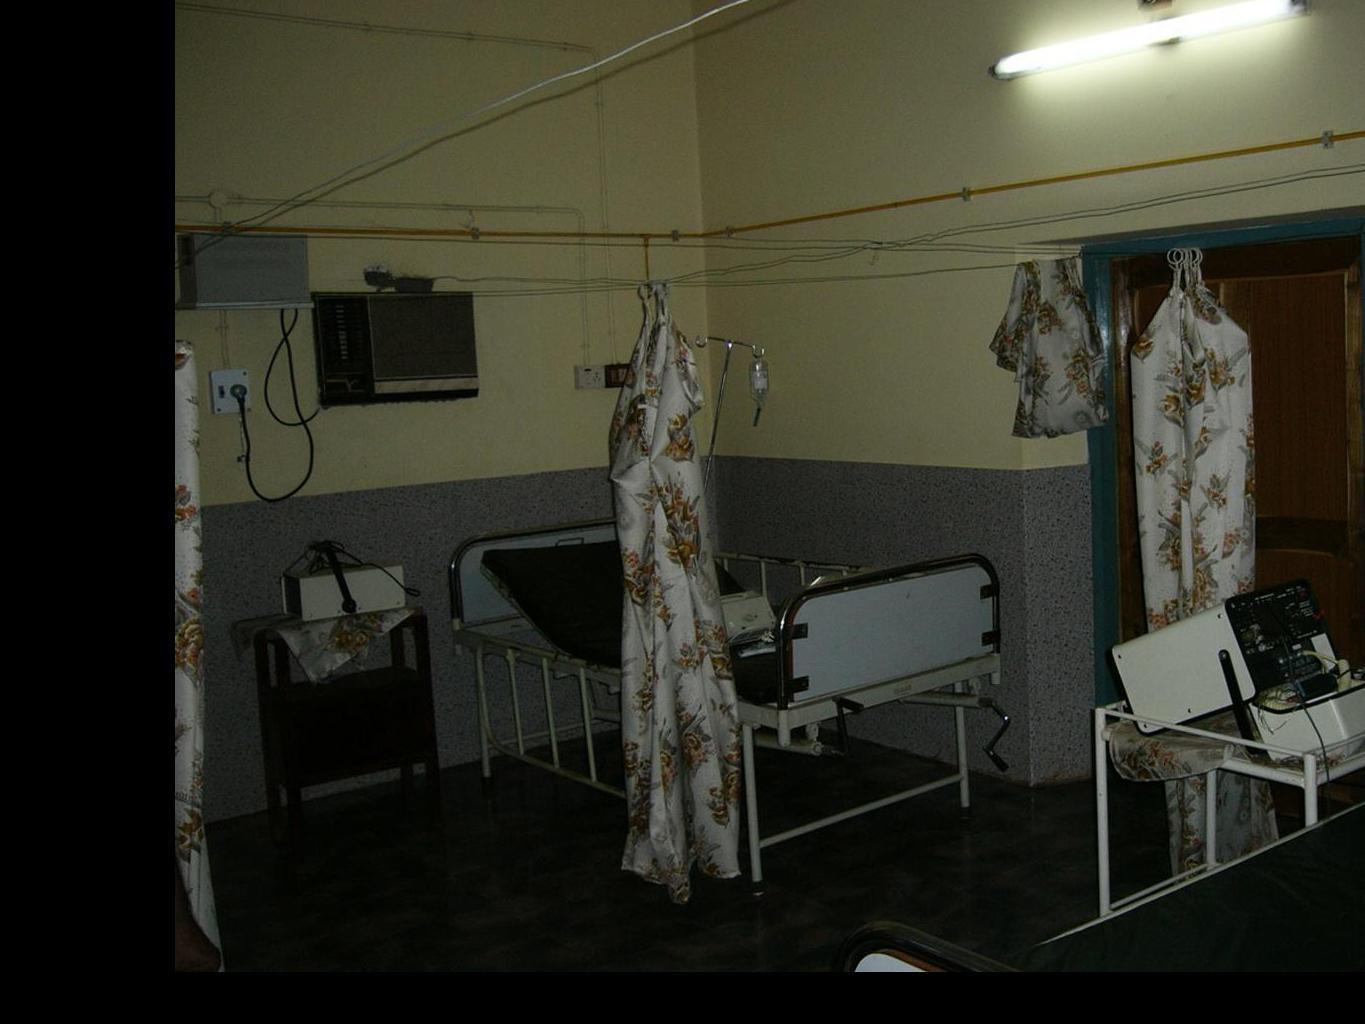Puerta: (1111, 234, 1359, 636)
